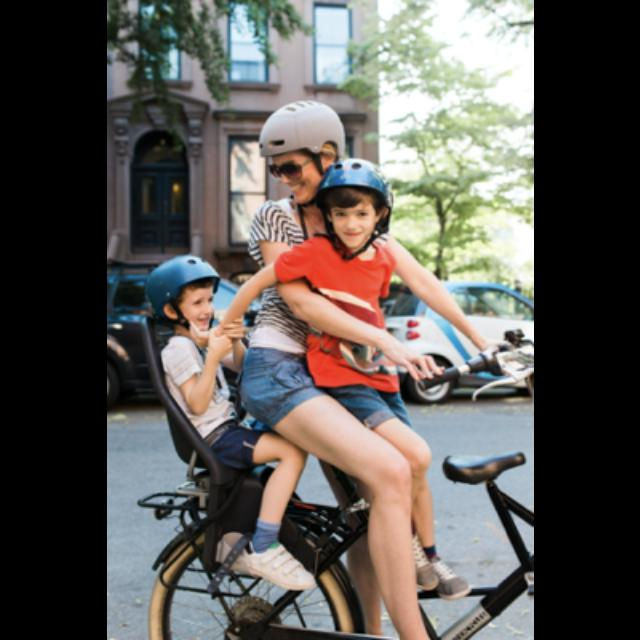With Helmet: (255, 98, 348, 206), (316, 160, 392, 248), (143, 253, 217, 335)
